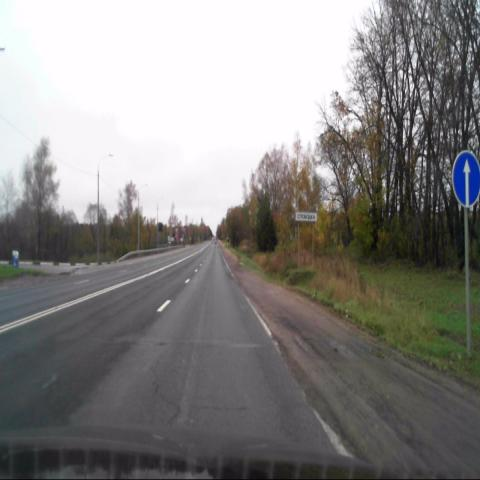4_1_1: (452, 149, 480, 209)
